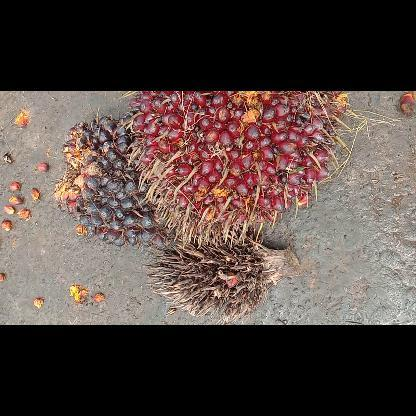Janjang kosong: (144, 228, 300, 324)
TBS masak: (120, 91, 352, 249)
TBS mentah: (54, 110, 174, 249)
